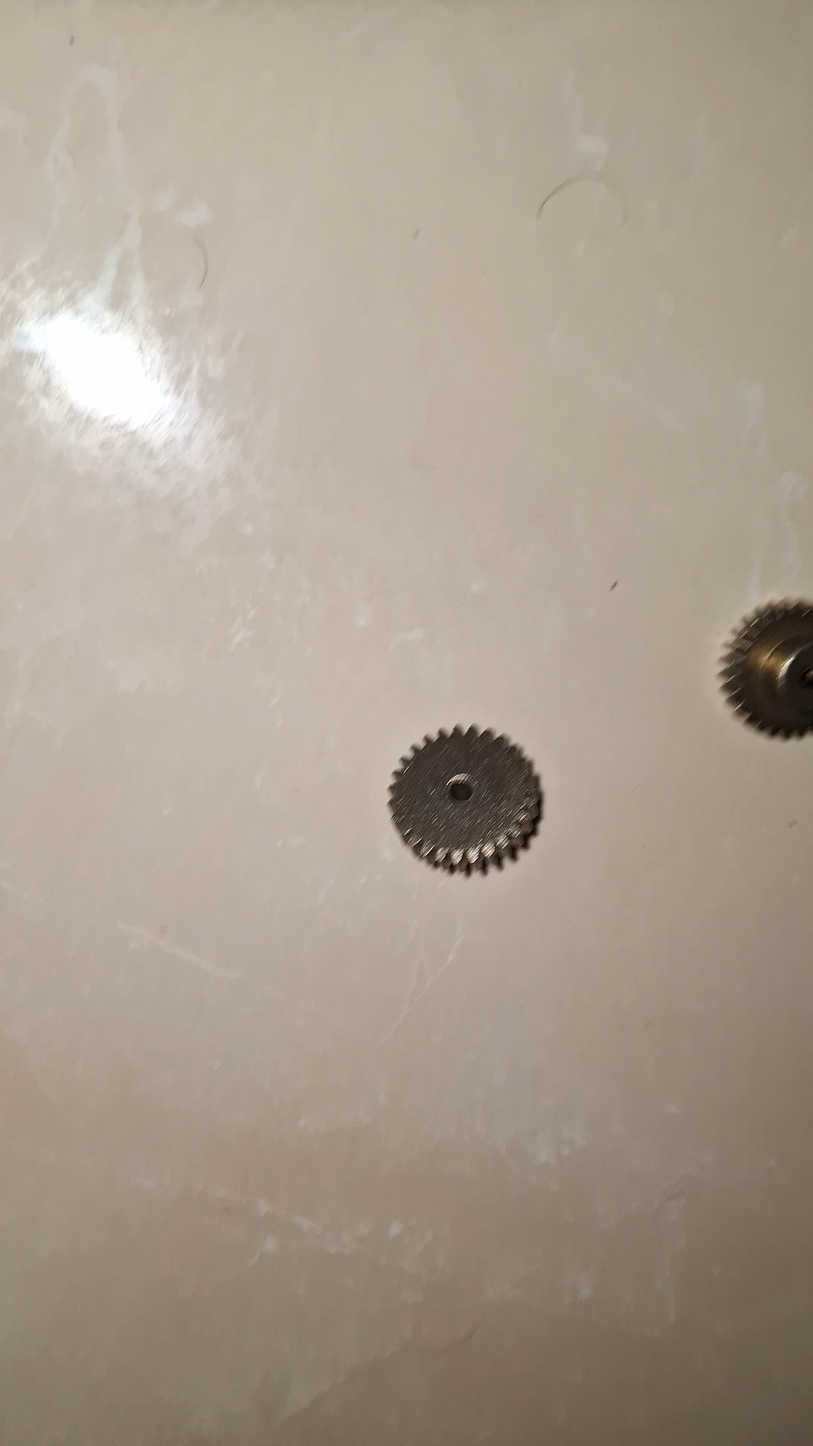spur gear: (390, 726, 541, 870), (720, 601, 813, 737)
